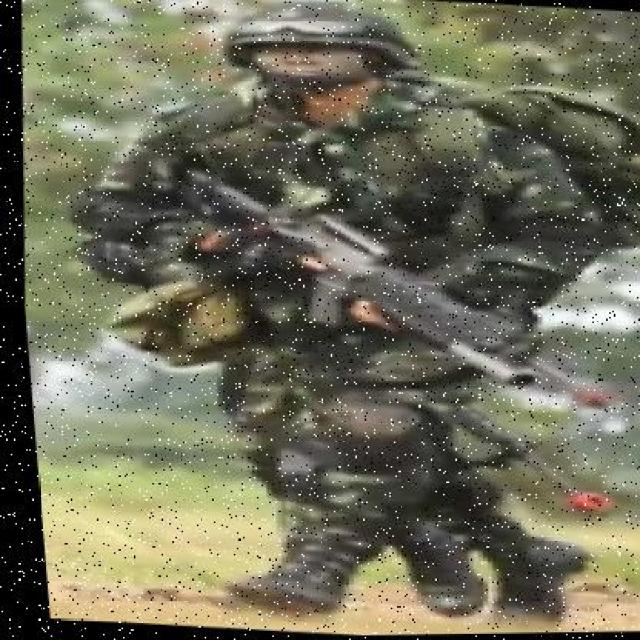MIL_Pax: (91, 0, 626, 617)
